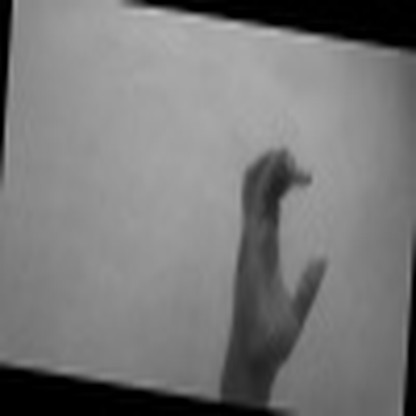c: (231, 134, 334, 360)
